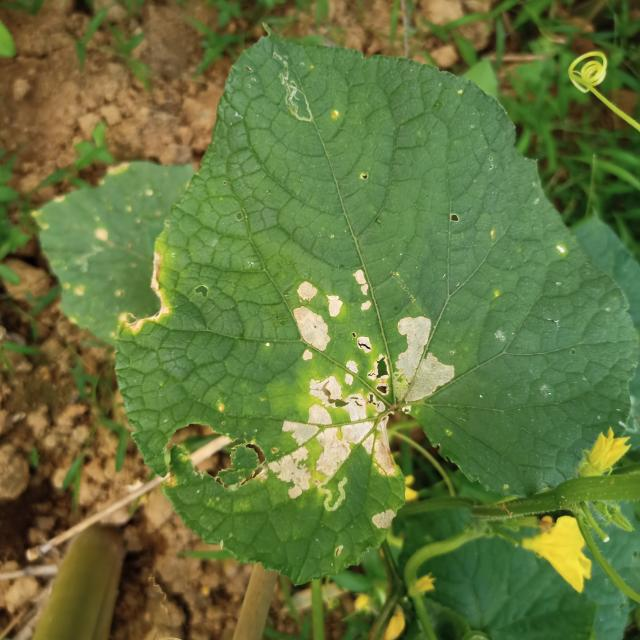disease_cucumber: (264, 264, 462, 504)
